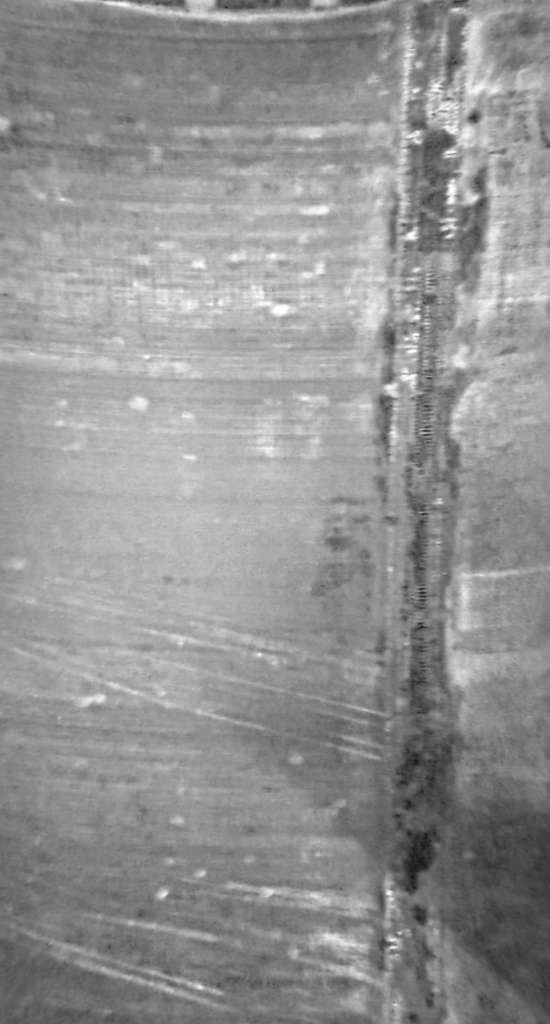splice: (382, 1, 492, 1024)
